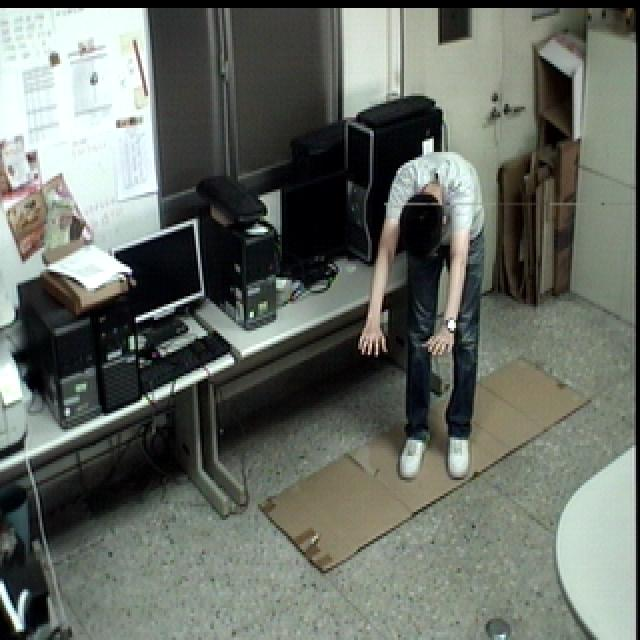bend: (356, 148, 492, 488)
